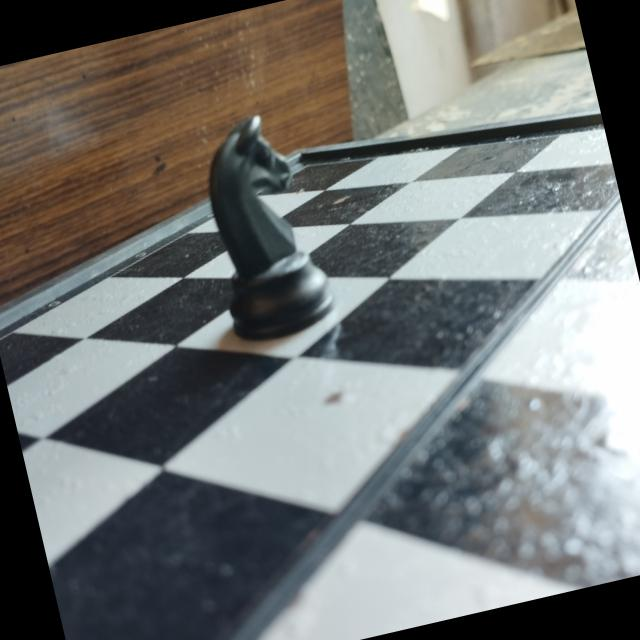Black Knight: (180, 98, 347, 353)
